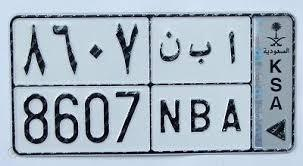0: (84, 43, 111, 145)
6: (51, 24, 80, 146)
7: (115, 23, 141, 144)
8: (23, 23, 48, 145)
A: (221, 30, 242, 133)
B: (189, 42, 212, 133)
N: (159, 31, 181, 134)
